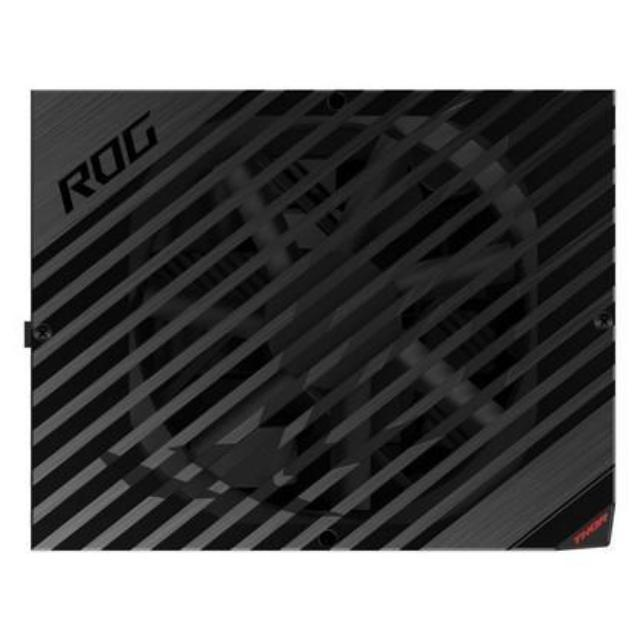PSU: (16, 80, 626, 562)
